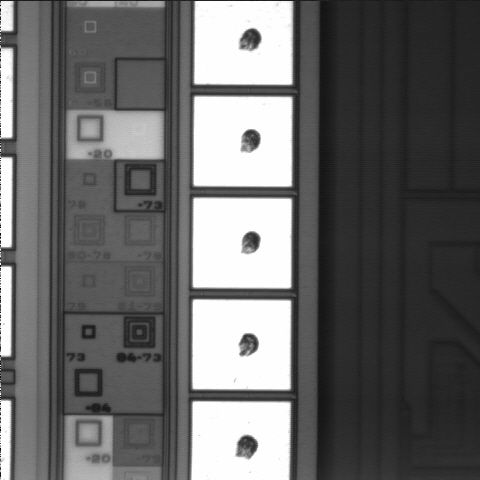pad: (194, 96, 292, 187), (192, 300, 291, 390), (193, 198, 291, 288)
